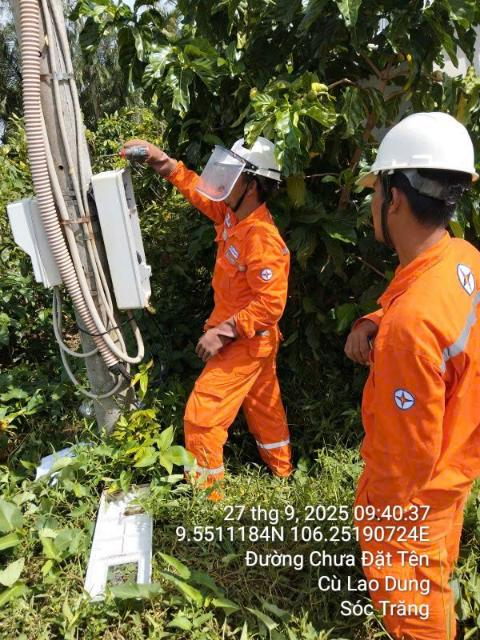gloves: (126, 125, 187, 190), (189, 316, 265, 362)
helmet: (369, 94, 475, 196), (195, 115, 299, 208)
